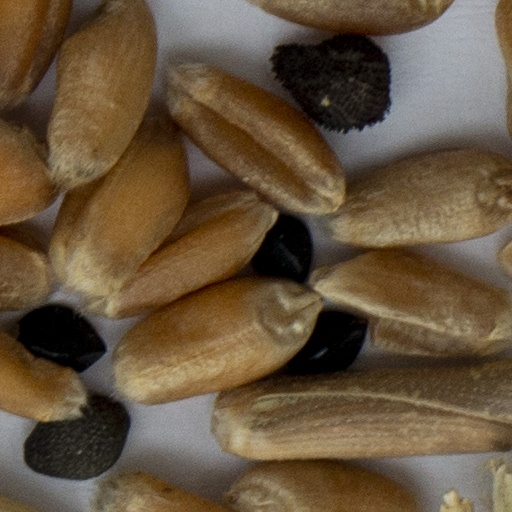Agrostemma-poly: (271, 35, 389, 130)
Convolvulus-poly: (25, 397, 126, 477)
Fallopia-Convolvulus-poly: (18, 307, 104, 370), (285, 315, 365, 373), (253, 217, 310, 284)
